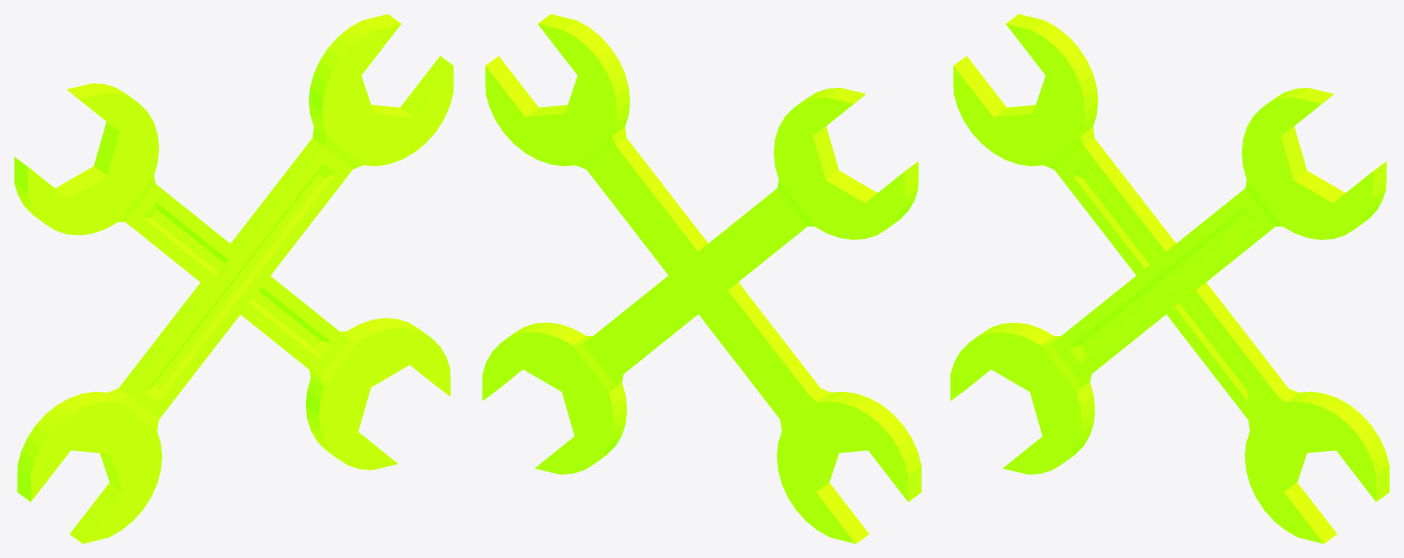
Rendered from repairON.glb.
The picture shows the model from 3 angles, left to right: view 1: azimuth 30°, elevation 25°; view 2: azimuth 150°, elevation 25°; view 3: azimuth 330°, elevation 25°; orthographic projection.
Visible parts, largest first — view 1: repairON; view 2: repairON; view 3: repairON.
Boxes of the visible parts, box(x1,y1,x2,y2) form: repairON: box(14, 14, 453, 543); repairON: box(482, 14, 921, 543); repairON: box(950, 14, 1389, 543).
Bounding box in the file's own units: 0.9386 × 0.9387 × 0.0633.
